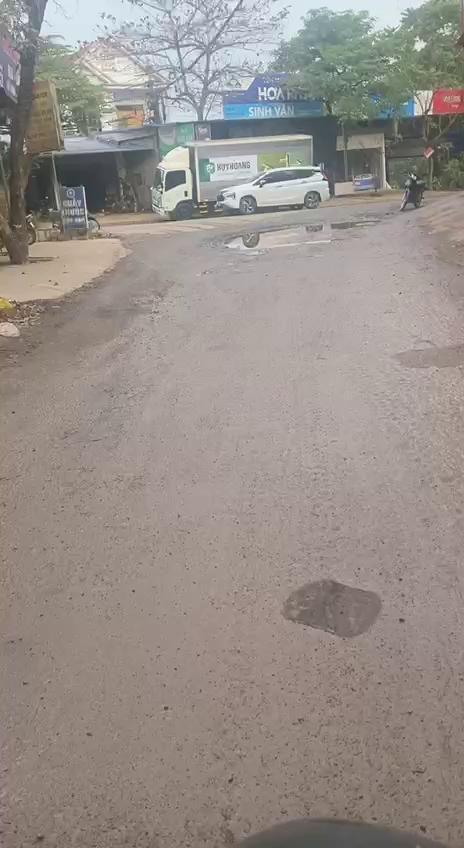pothole: (213, 214, 387, 255)
